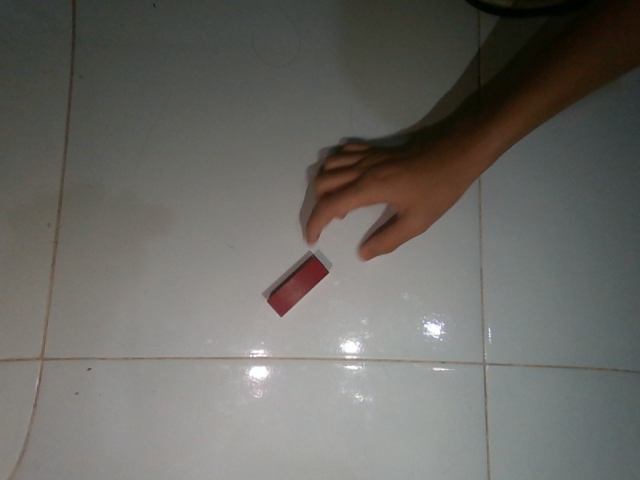Balok-Merah-Marun: (261, 254, 329, 318)
